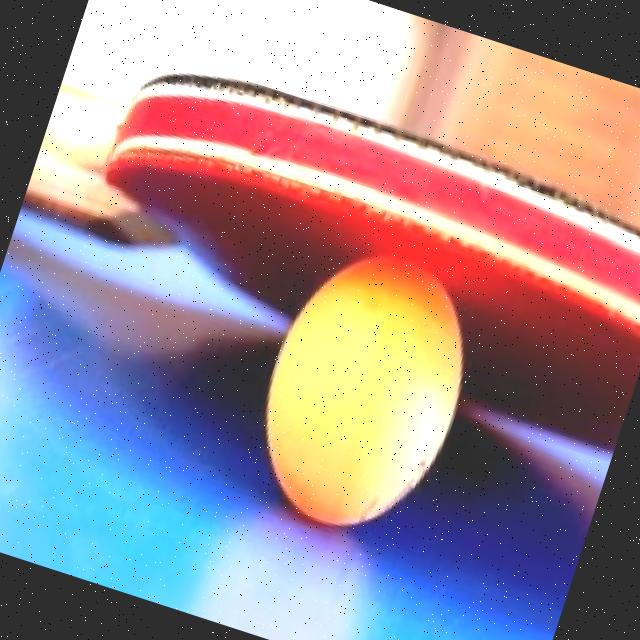ping-pong-ball: (229, 229, 492, 553)
